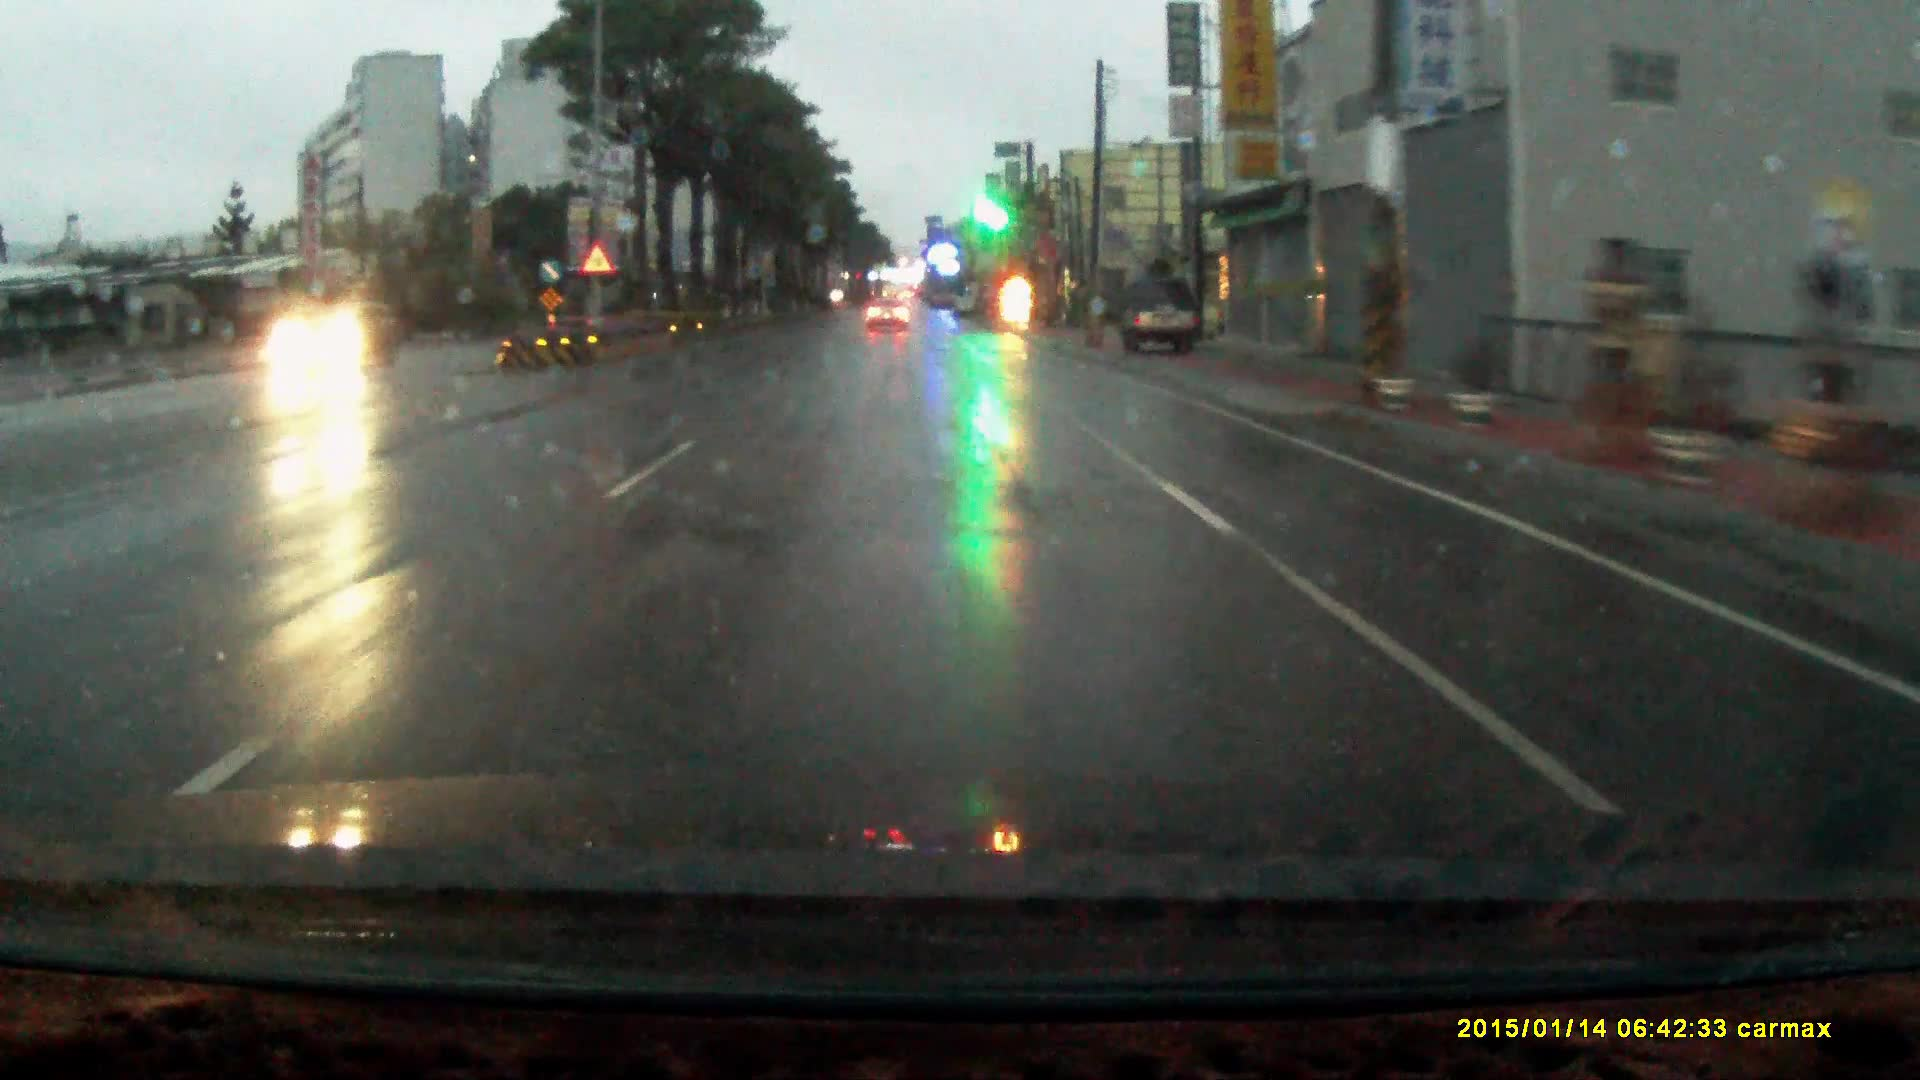vehicle: (262, 301, 406, 376), (1120, 278, 1205, 359), (866, 298, 911, 334)
